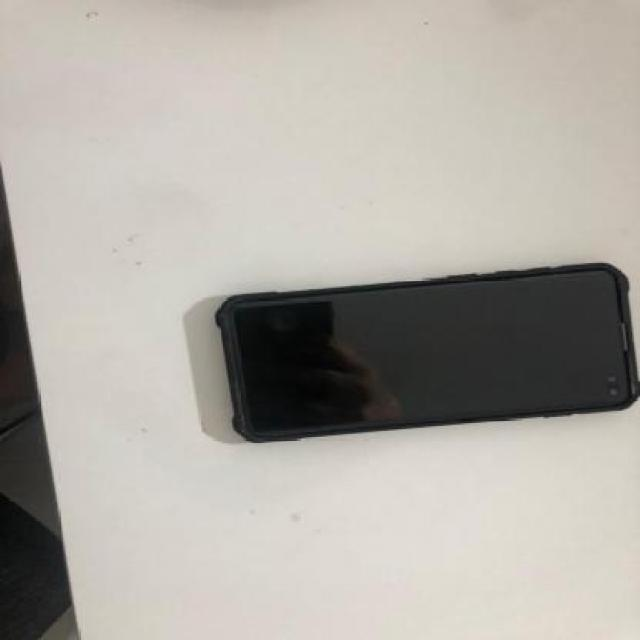phone: (216, 261, 639, 445)
